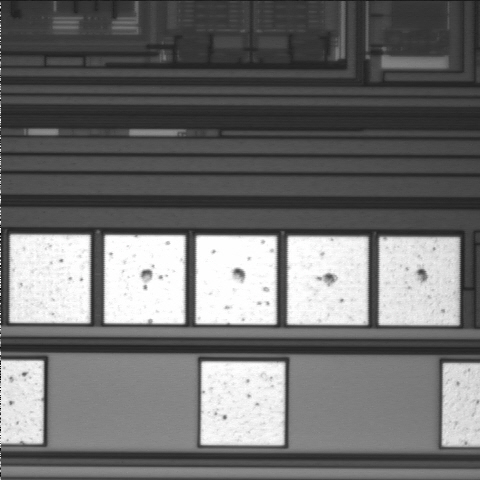pad: (196, 235, 277, 325), (104, 235, 185, 324), (287, 236, 368, 325), (201, 361, 285, 445), (10, 235, 90, 323), (379, 237, 459, 325)
